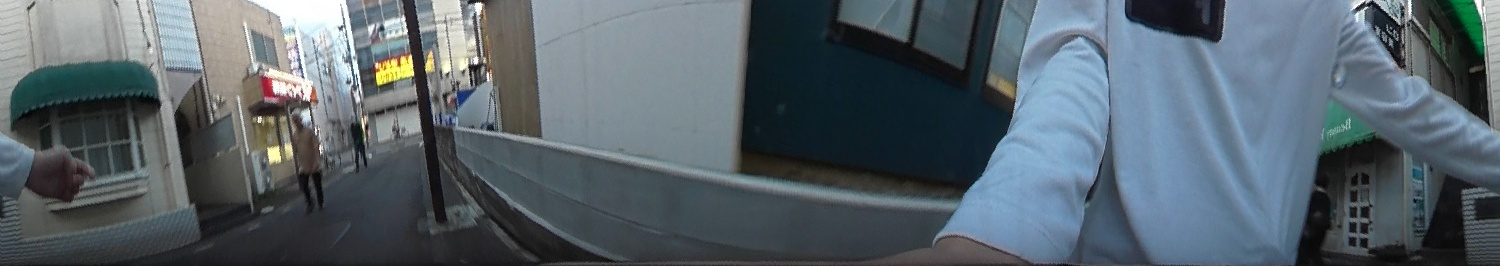difficult_person: (387, 117, 407, 142)
person: (284, 110, 329, 216), (346, 113, 373, 171)
